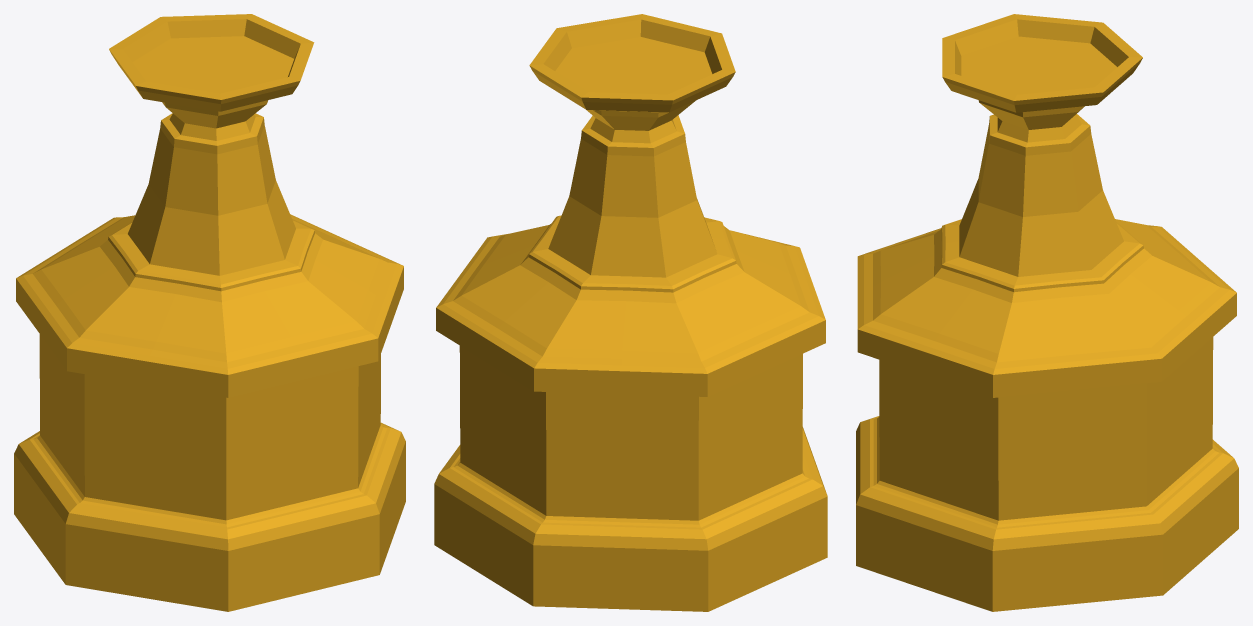
File: socle.glb
The picture shows the model from 3 angles, left to right: view 1: azimuth 30°, elevation 25°; view 2: azimuth 150°, elevation 25°; view 3: azimuth 270°, elevation 25°; orthographic projection.
Visible parts, largest first — view 1: Cylinder.001; view 2: Cylinder.001; view 3: Cylinder.001.
Part boxes in pixels (x1,y1,x2,y2): Cylinder.001: (14, 14, 405, 611); Cylinder.001: (434, 14, 827, 611); Cylinder.001: (856, 14, 1238, 611).
Size of the model in its own units: 5.83 by 7.73 by 5.69.
